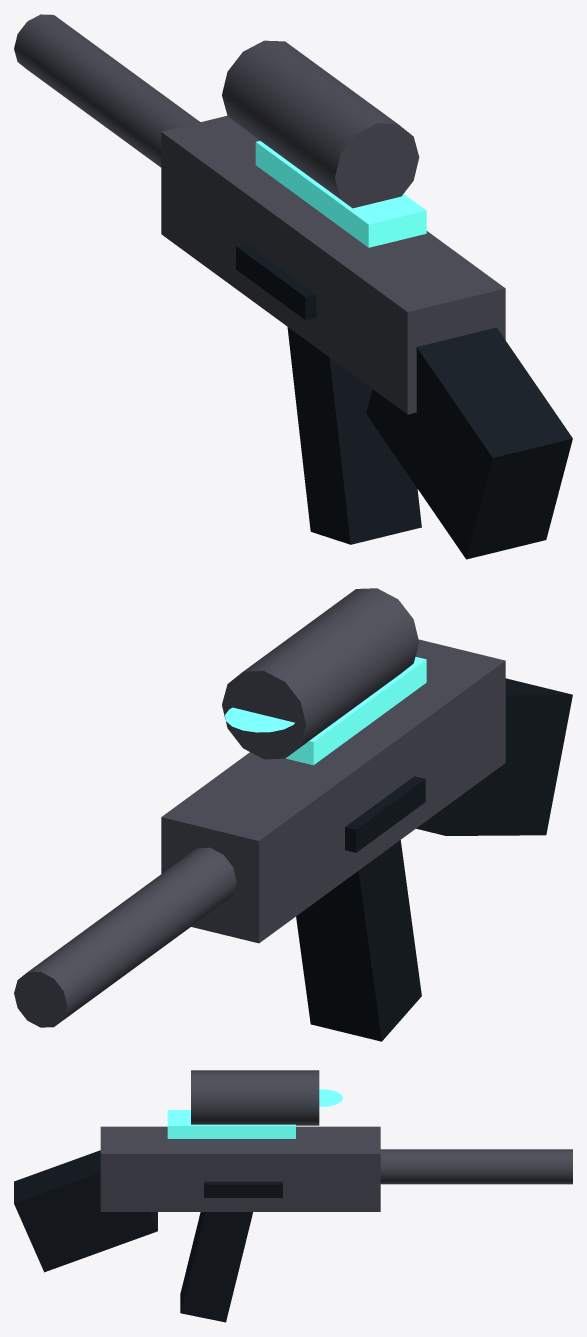
Rendered from sable-sr.glb.
3 renders of one model, top to bottom at view 1: azimuth 30°, elevation 25°; view 2: azimuth 150°, elevation 25°; view 3: azimuth 270°, elevation 25°, orthographic. The views are drawn at different scales.
Visible parts, largest first — view 1: sable-sr; view 2: sable-sr; view 3: sable-sr.
Part boxes in pixels (x1,y1,x2,y2): sable-sr: (14,14,572,559); sable-sr: (14,588,572,1041); sable-sr: (14,1070,572,1322).
Bounding box in the file's own units: 0.27 × 0.9072 × 1.92.
